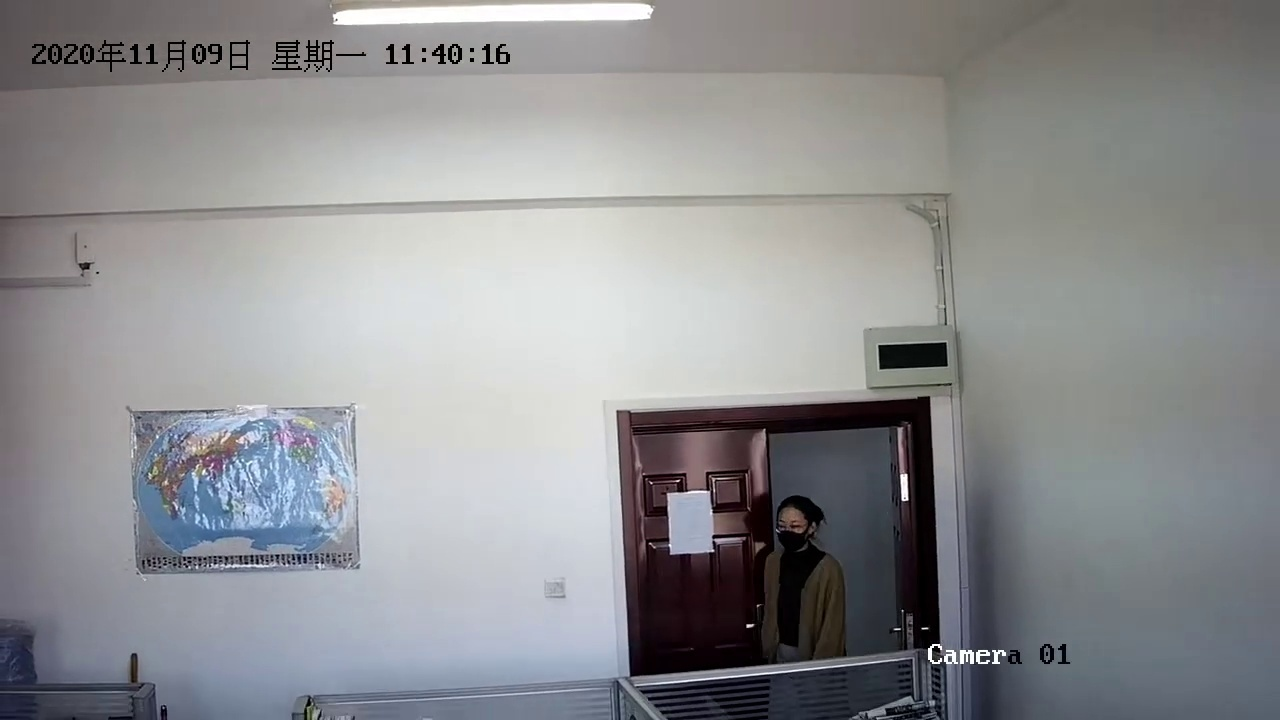mask: (773, 500, 821, 553)
